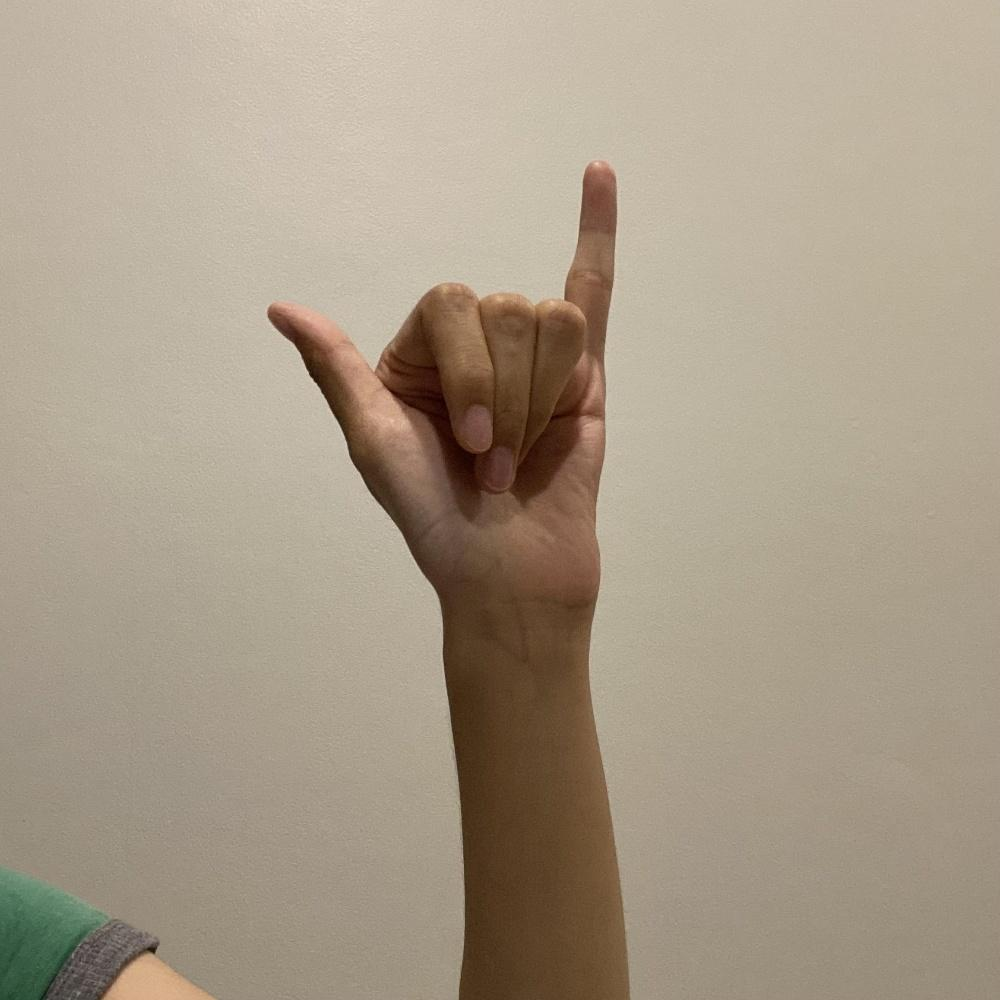y: (259, 156, 622, 626)
